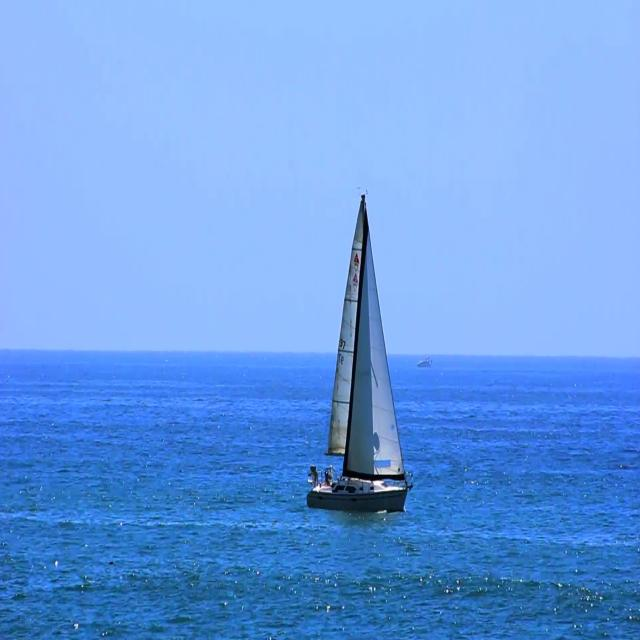houseboat: (415, 353, 434, 368)
sailboat: (307, 185, 409, 516)
